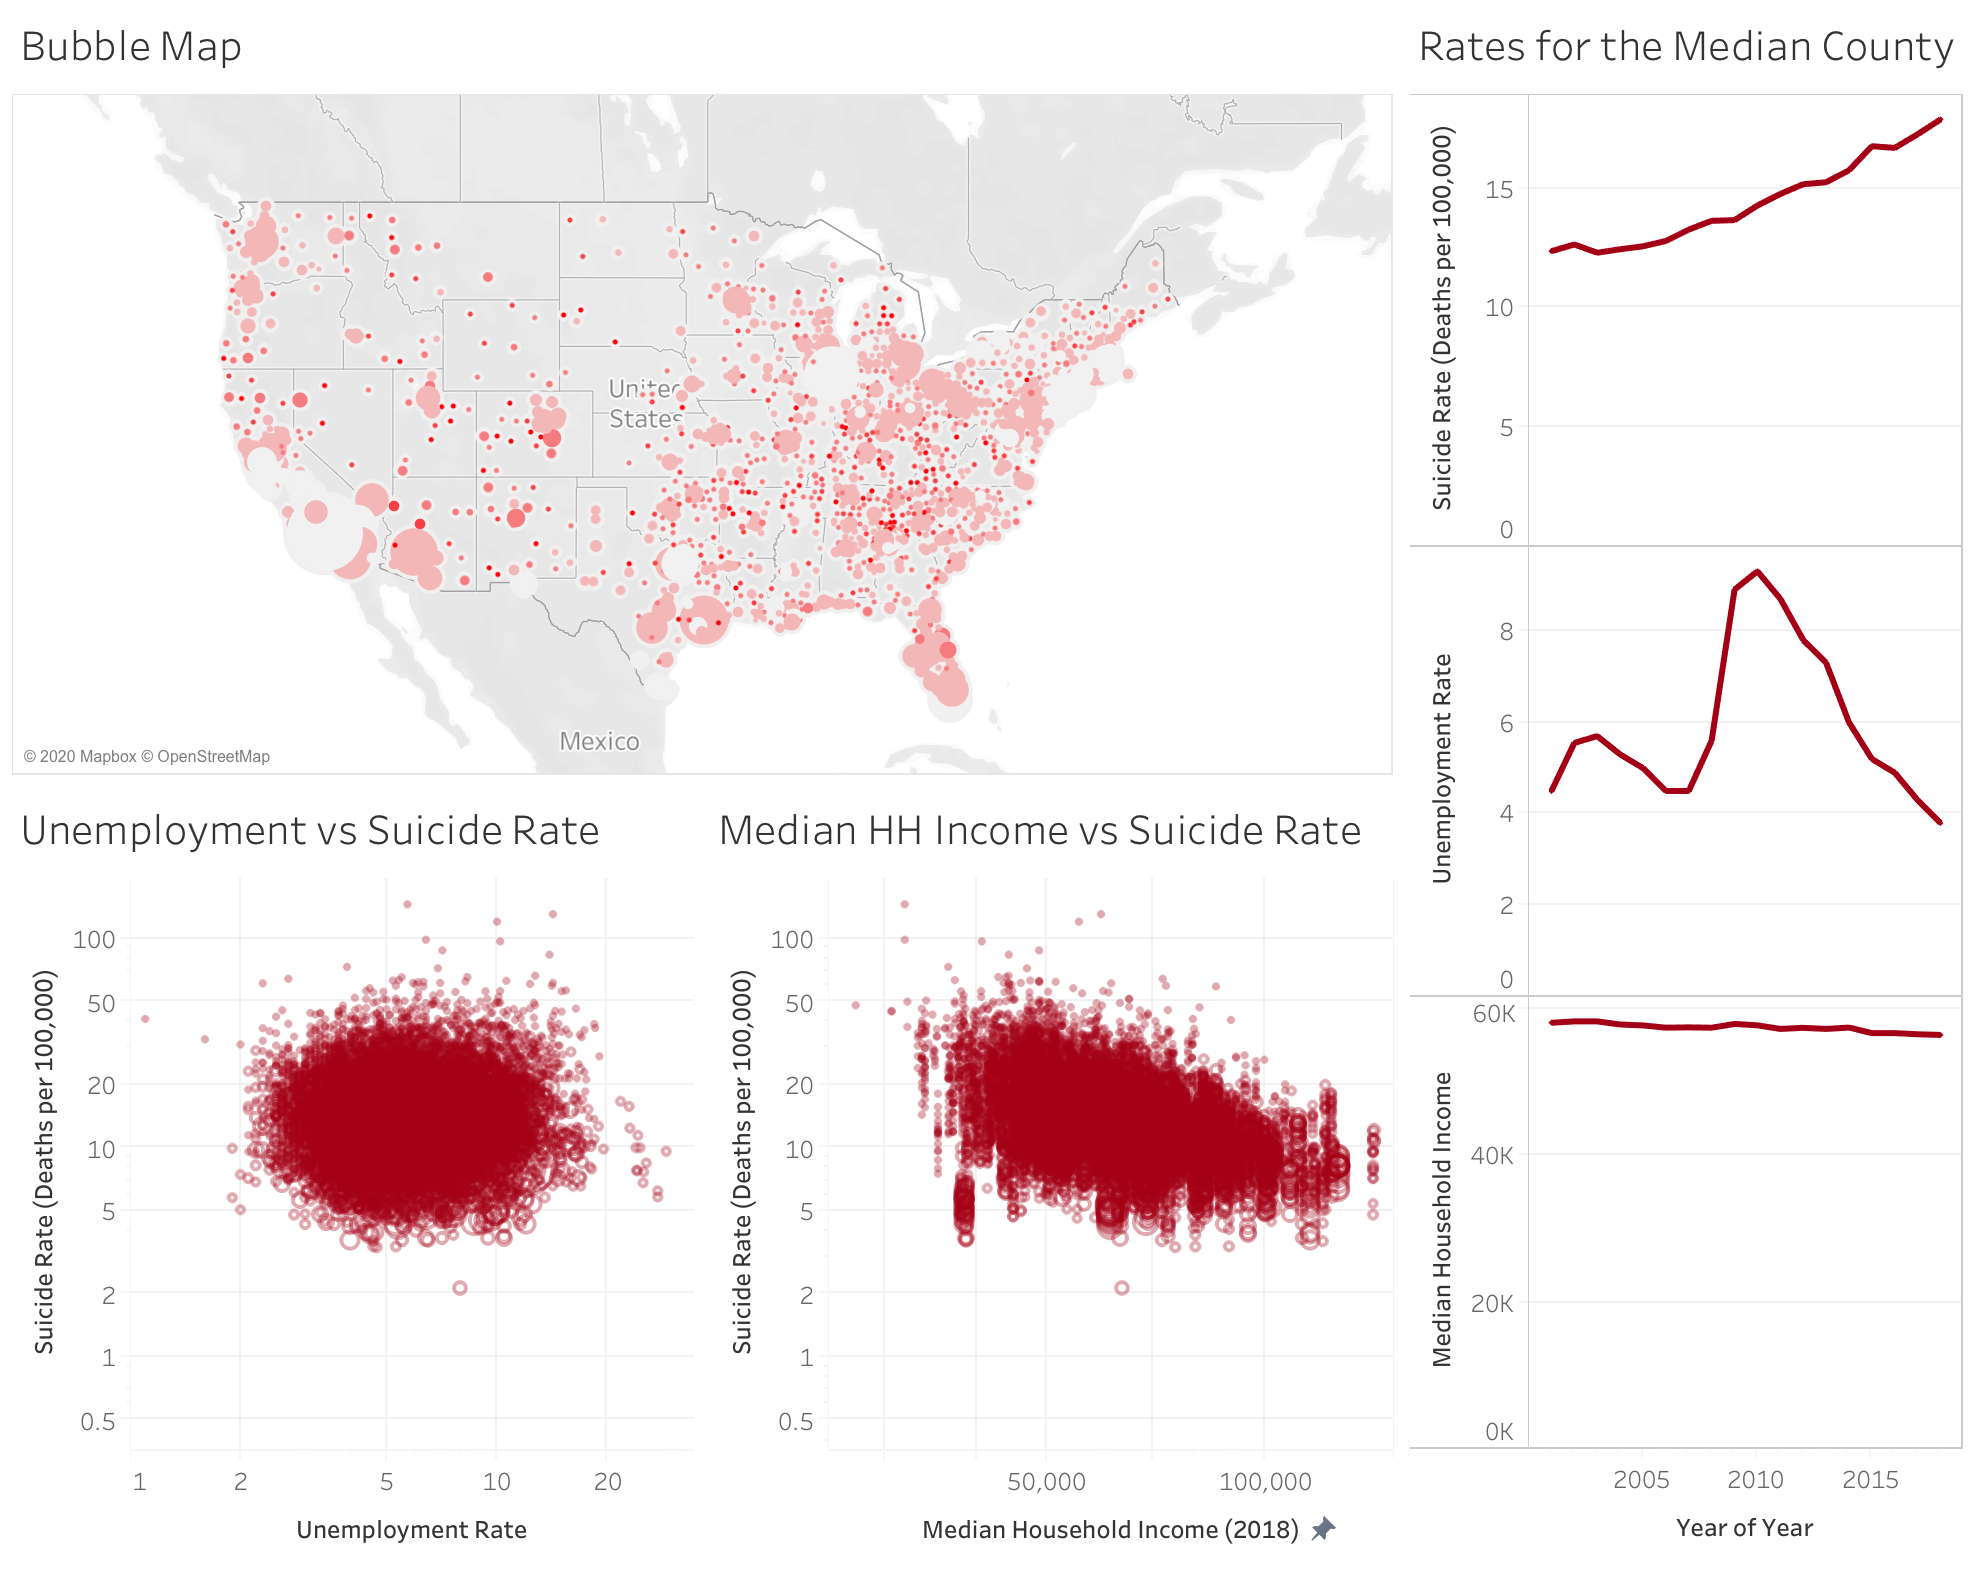

Layout of this report page (visuals, bound fields, positions):
{"tool":"tableau","page":{"name":"Dashboard 1","canvas":[1000,800],"ordinal":0},"visuals":[{"type":"worksheet","title":"Bubble Map","mark":"Automatic","box":[8,8,699,392]},{"type":"worksheet","title":"Rate over Time","mark":"Automatic","rows":["Crude Rate","unemployment_rate","mhhi_2018"],"cols":["year"],"box":[707,8,285,784]},{"type":"worksheet","title":"Unemployment vs Suicide Rate","mark":"Automatic","rows":["Crude Rate"],"cols":["unemployment_rate"],"box":[8,400,349.5,392]},{"type":"worksheet","title":"Median HH Income vs Suicide Rate","mark":"Automatic","rows":["Crude Rate"],"cols":["mhhi_2018"],"box":[357.5,400,349.5,392]}]}

Visuals, with their boxes in screenshot pixels (x1, y1, x2, y2), scaled from the page's 1000x800 canvas onto the 1982x1580 screenshot:
"Bubble Map" worksheet: (16,16,1401,790)
"Rate over Time" worksheet: (1401,16,1966,1564)
"Unemployment vs Suicide Rate" worksheet: (16,790,709,1564)
"Median HH Income vs Suicide Rate" worksheet: (709,790,1401,1564)
